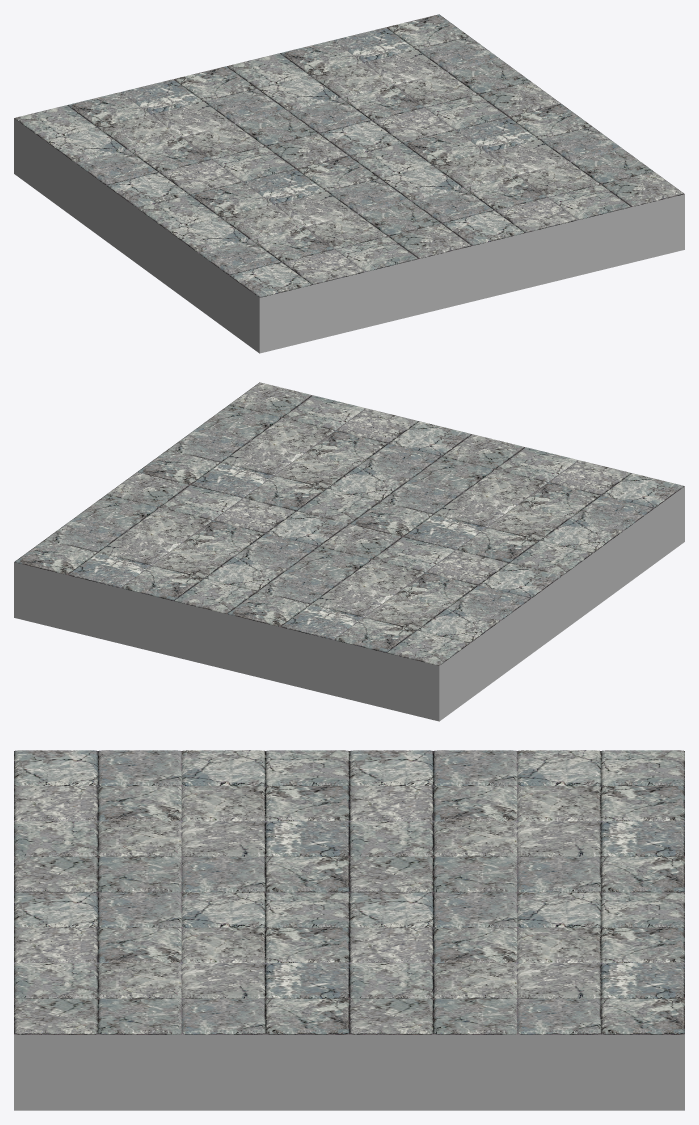
File: Floor_1m.gltf
The picture shows the model from 3 angles, top to bottom: view 1: azimuth 30°, elevation 25°; view 2: azimuth 150°, elevation 25°; view 3: azimuth 270°, elevation 25°; orthographic projection. The views are drawn at different scales.
Parts seen in each view (by area): view 1: Floor_1m; view 2: Floor_1m; view 3: Floor_1m.
Boxes of the visible parts, x1,y1,x2,y2 form: Floor_1m: (14,14,684,353); Floor_1m: (14,382,684,721); Floor_1m: (14,750,684,1110).
Bounding box in the file's own units: 8 × 1.03 × 8.
